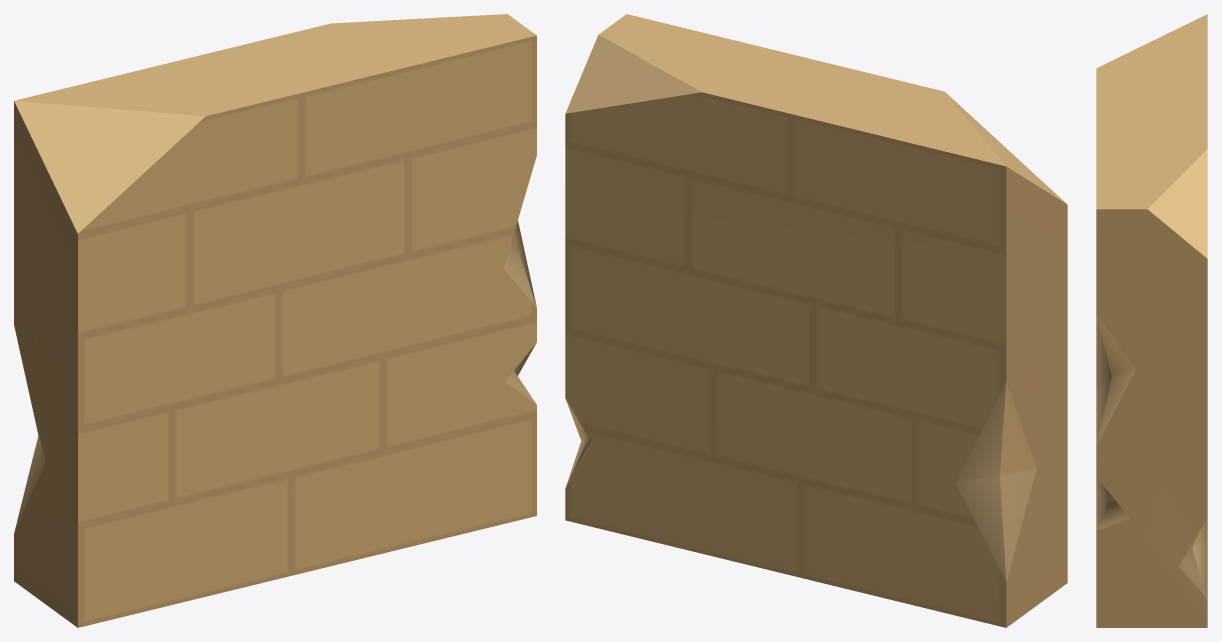
File: ST_Env_Wall_08.fbx
The picture shows the model from 3 angles, left to right: view 1: azimuth 30°, elevation 25°; view 2: azimuth 150°, elevation 25°; view 3: azimuth 270°, elevation 25°; orthographic projection. The views are drawn at different scales.
Visible parts, largest first — view 1: ST_Env_Wall_08; view 2: ST_Env_Wall_08; view 3: ST_Env_Wall_08.
Boxes of the visible parts, x1,y1,x2,y2 form: ST_Env_Wall_08: (14, 14, 536, 627); ST_Env_Wall_08: (565, 14, 1067, 627); ST_Env_Wall_08: (1096, 14, 1207, 627).
Size of the model in its own units: 5 by 5 by 1.2.
